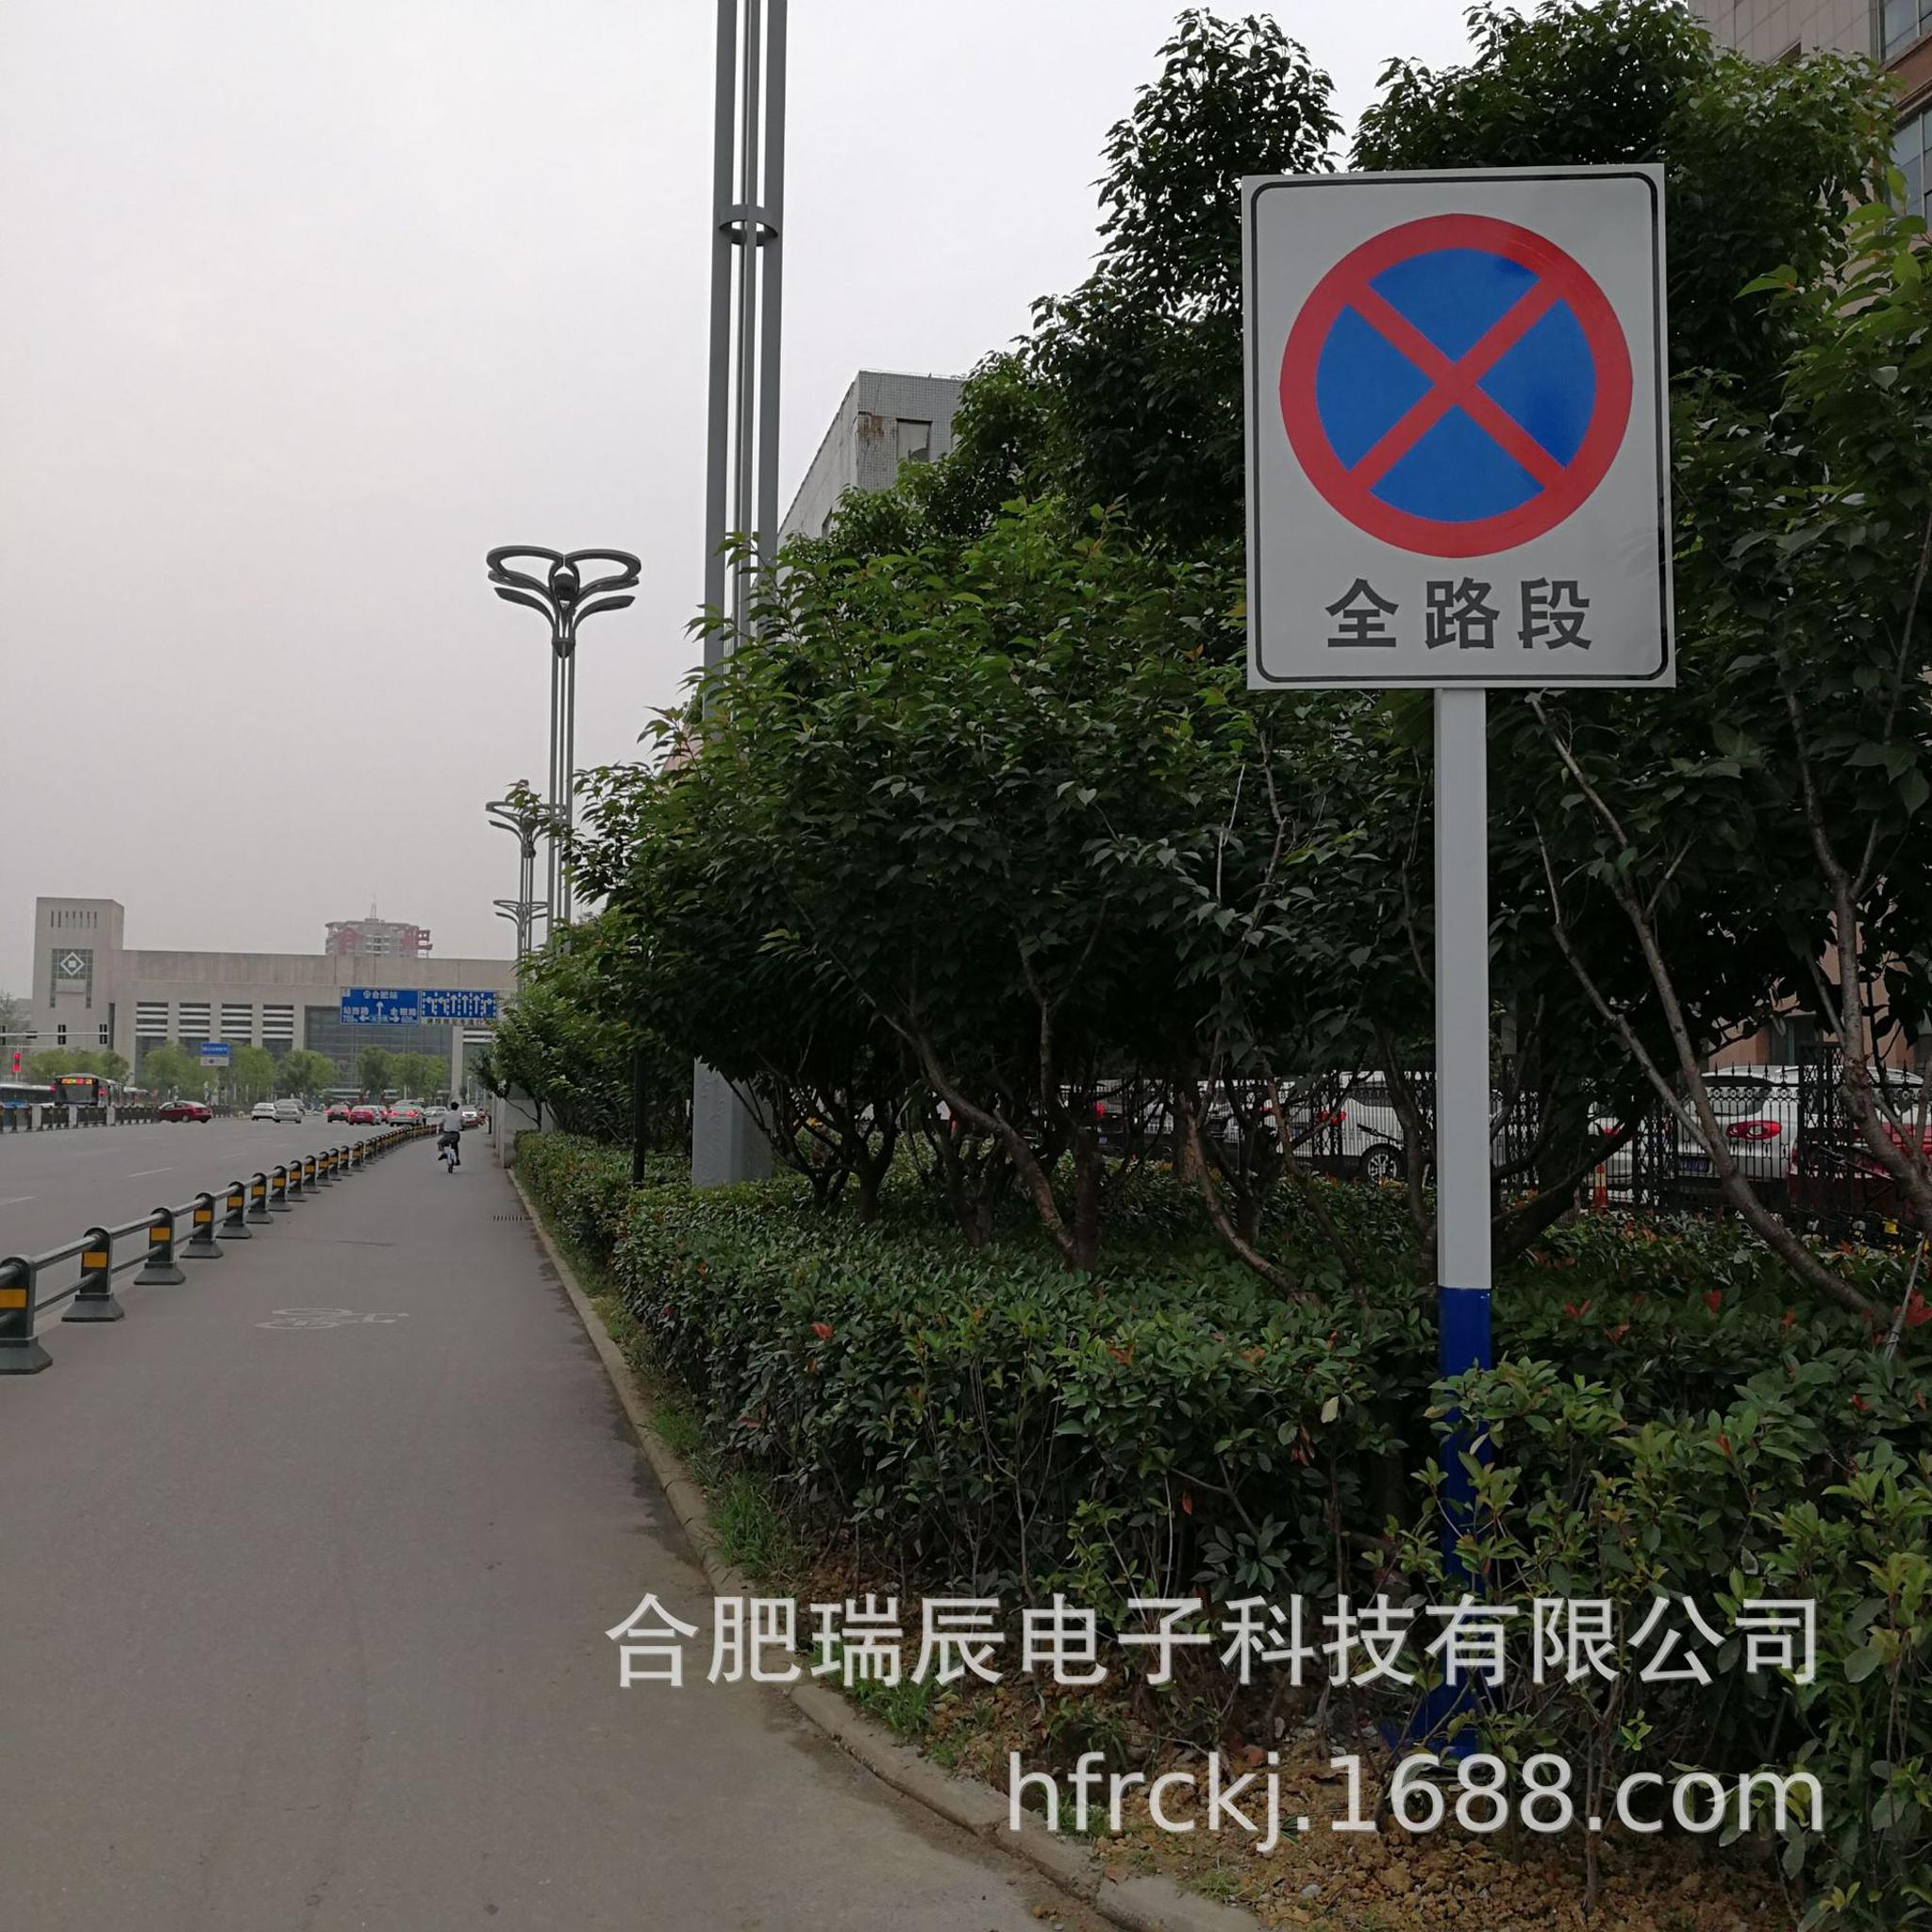pn: (1279, 214, 1631, 561)
